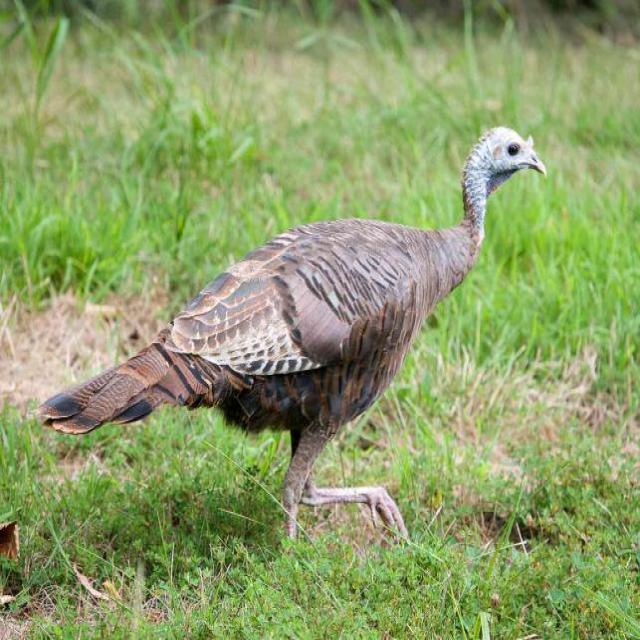Turkey: (39, 107, 551, 564)
